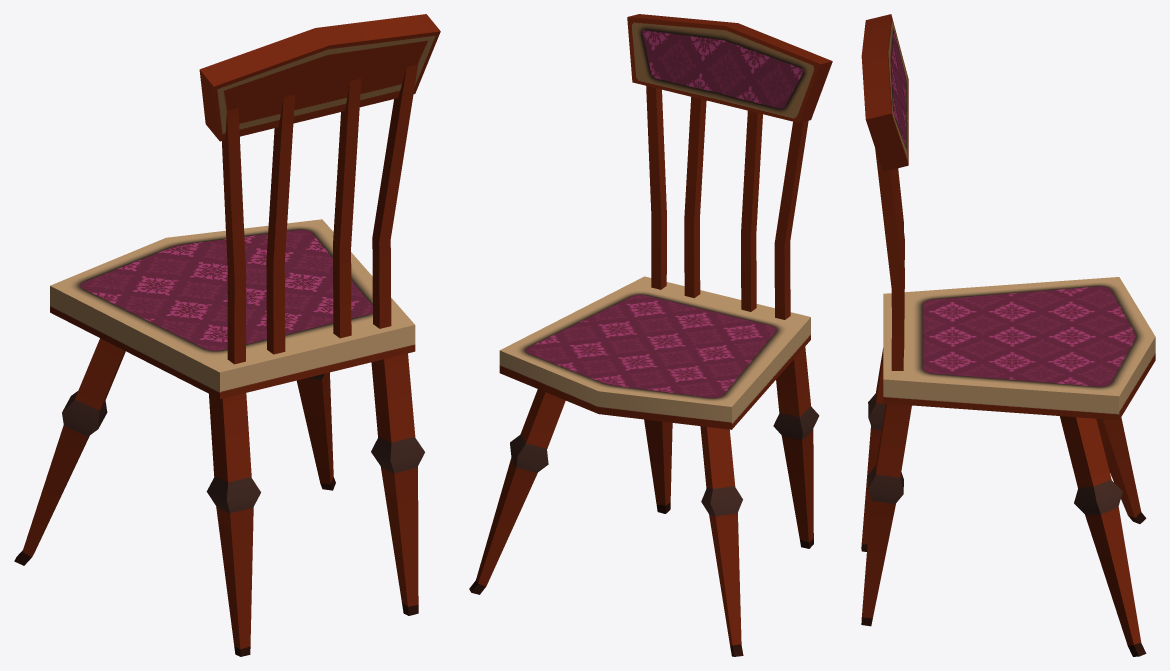
Rendered from VicChair.fbx.
3 views of the same model, side by side, from view 1: azimuth 30°, elevation 25°; view 2: azimuth 150°, elevation 25°; view 3: azimuth 270°, elevation 25° (orthographic). The views are drawn at different scales.
Parts seen in each view (by area): view 1: Chair1; view 2: Chair1; view 3: Chair1.
Boxes of the visible parts, <box> form: Chair1: <box>14,14,440,656</box>; Chair1: <box>469,14,832,656</box>; Chair1: <box>861,14,1155,656</box>.
Size of the model in its own units: 1.4 by 2.5 by 1.23.
1 material, 1 textured.
